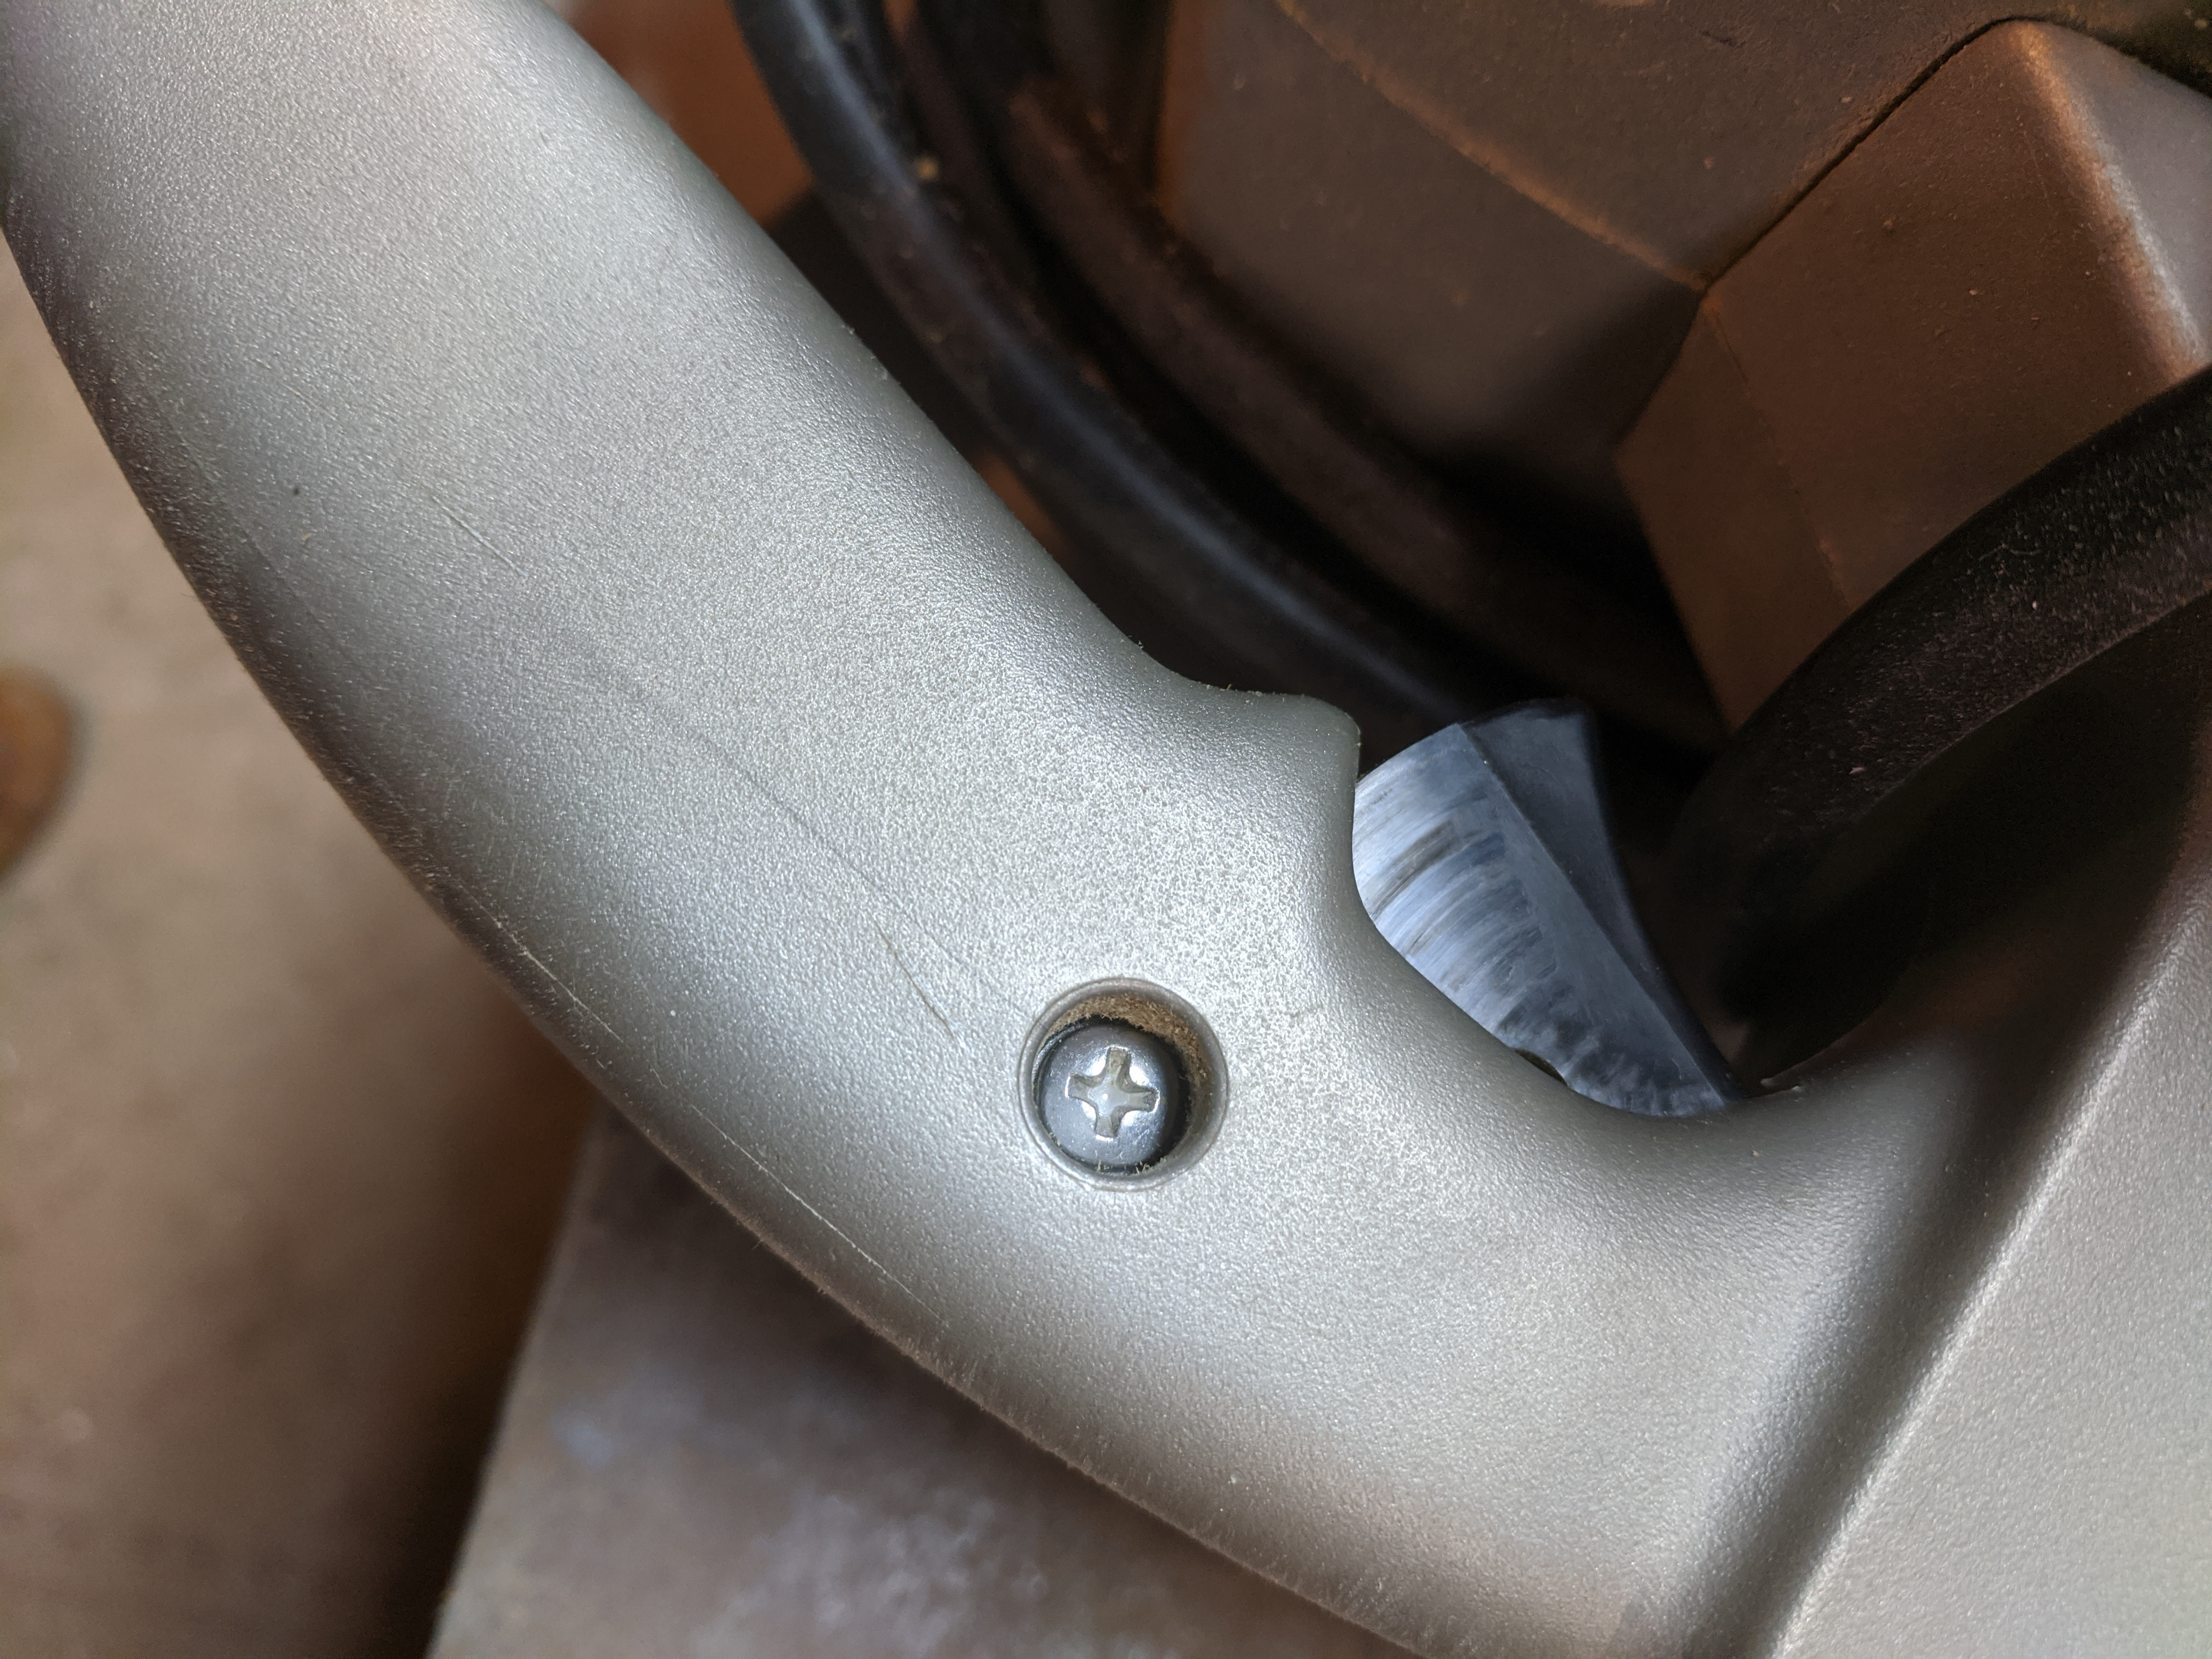cross_recessed_screw: (1663, 708, 1763, 824), (723, 936, 829, 1035)
